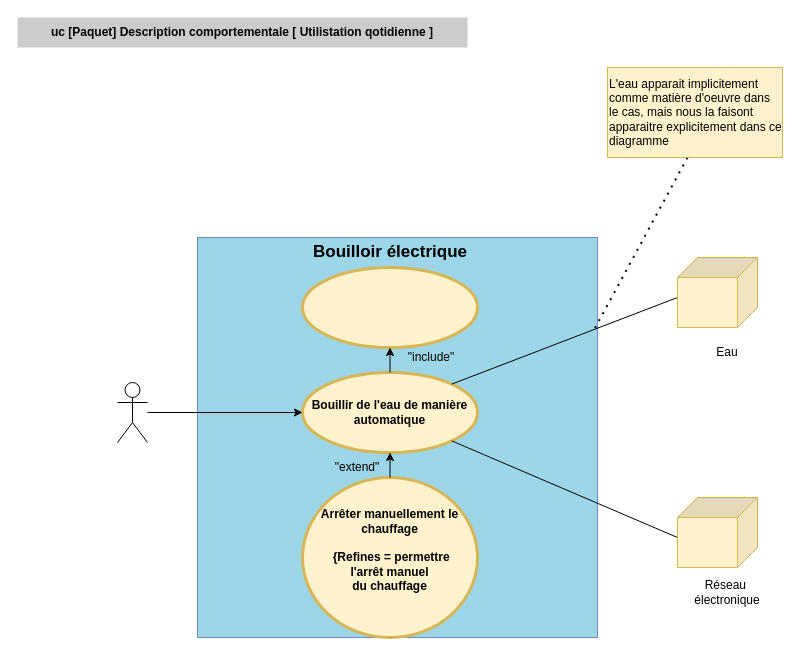
Some shapes in this 800 by 656 pixel diagram are drawn without their labels. Each missing label, with the centre of its shape:
Arrêter automatiquement le chauffage: pixel 389 307
Utilisateur: pixel 132 412
